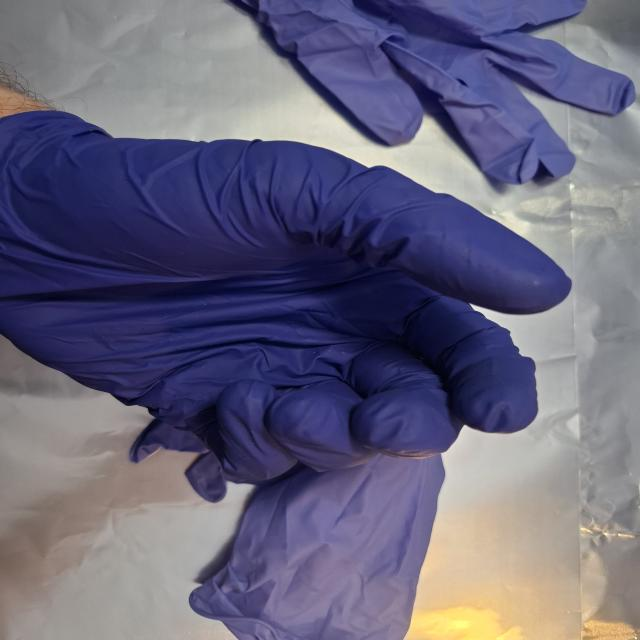glove_on: (0, 108, 577, 486)
